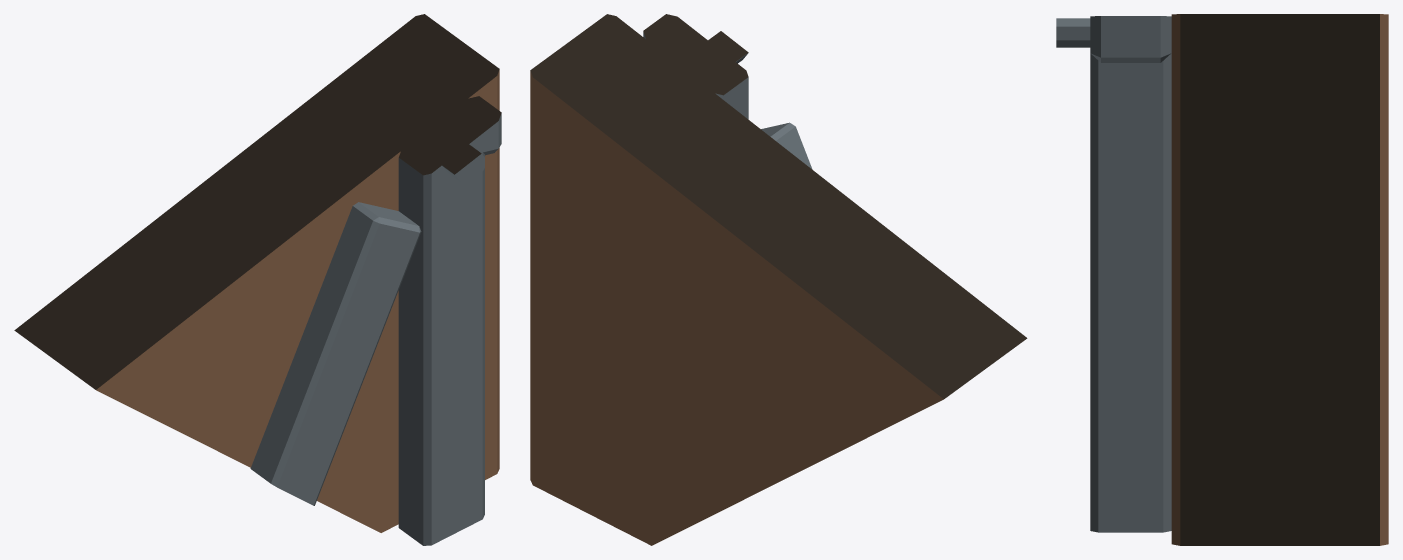
The model's file is SM_DoorShard_01_31.fbx.
3 views of the same model, side by side, from view 1: azimuth 30°, elevation 25°; view 2: azimuth 150°, elevation 25°; view 3: azimuth 270°, elevation 25° (orthographic). The views are drawn at different scales.
Visible parts, largest first — view 1: SM_DoorShard_01_31; view 2: SM_DoorShard_01_31; view 3: SM_DoorShard_01_31.
Part boxes in pixels (x1=…): SM_DoorShard_01_31: x1=14, y1=14, x2=501, y2=545; SM_DoorShard_01_31: x1=530, y1=14, x2=1027, y2=545; SM_DoorShard_01_31: x1=1056, y1=14, x2=1388, y2=545.
Bounding box in the file's own units: 46.1 × 24.5 × 46.77.
